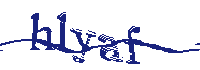a: (98, 31, 124, 65)
f: (124, 23, 142, 67)
h: (30, 13, 53, 52)
l: (56, 7, 68, 55)
y: (70, 26, 96, 64)
